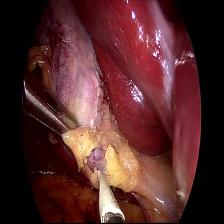Grasper: (22, 67, 81, 146)
Hook: (89, 163, 125, 223)
